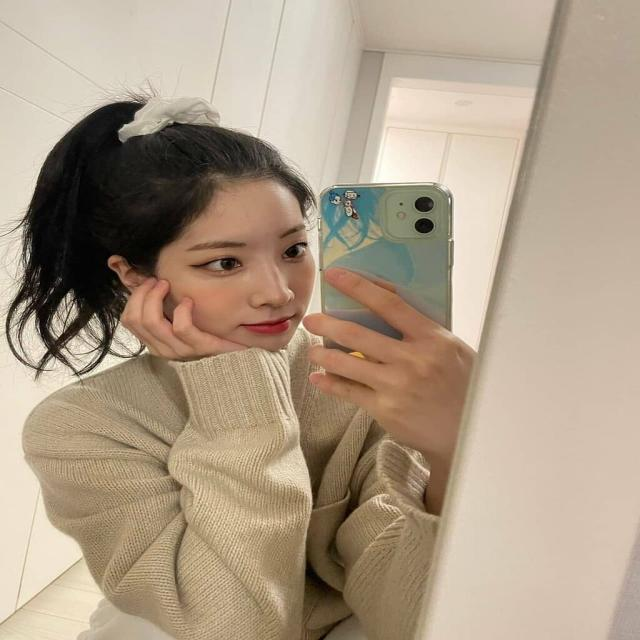phone: (318, 182, 453, 392)
